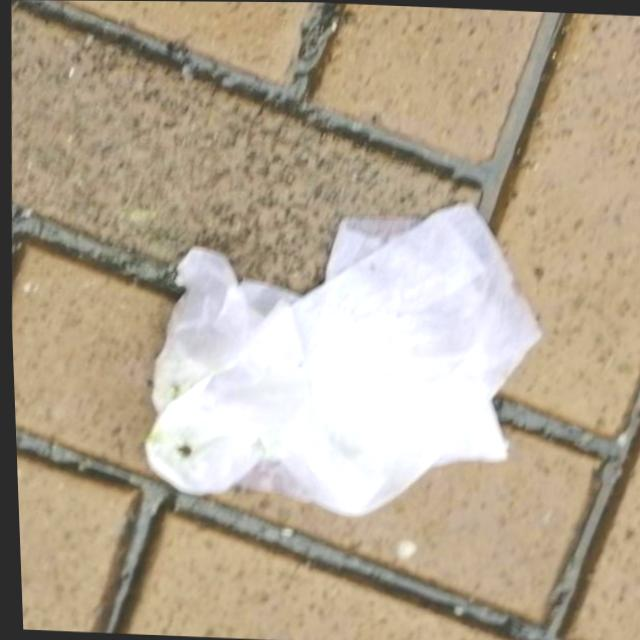Paper: (129, 183, 552, 526)
